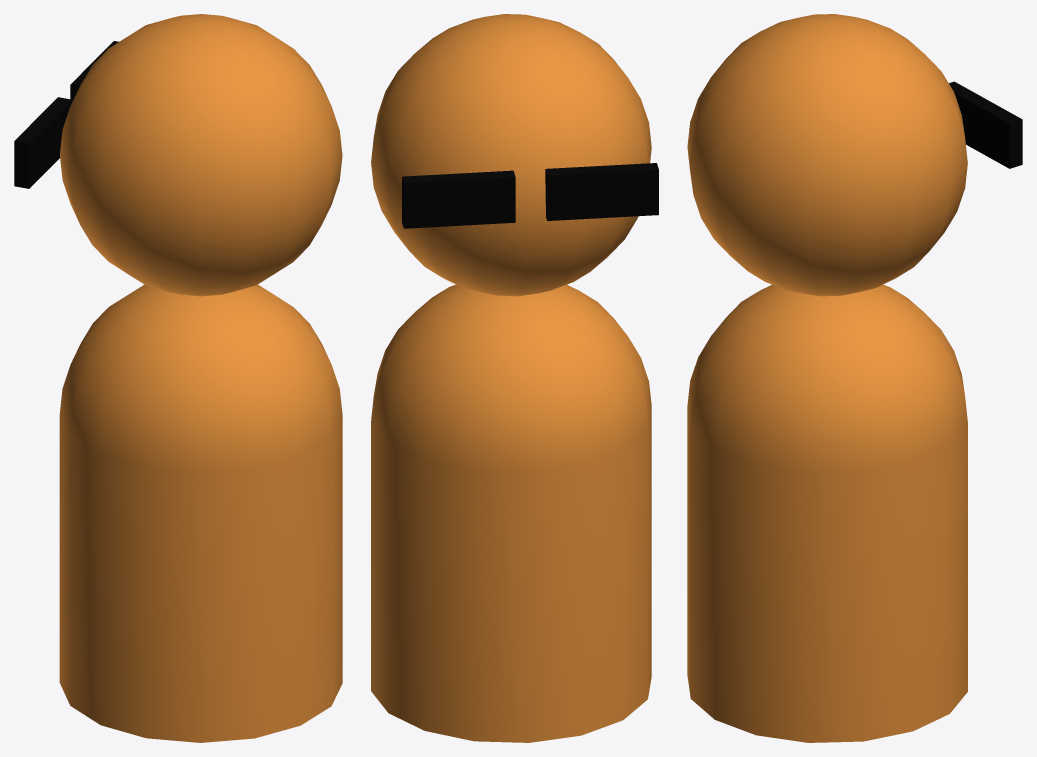
File: orange customer.fbx
3 renders of one model, left to right at view 1: azimuth 30°, elevation 25°; view 2: azimuth 150°, elevation 25°; view 3: azimuth 270°, elevation 25°, orthographic.
Visible parts, largest first — view 1: orange customer, right eyebrow.004; view 2: orange customer, right eyebrow.004; view 3: orange customer, right eyebrow.004.
Part boxes in pixels (bbox=[...]): orange customer: bbox=[59, 14, 342, 742]; right eyebrow.004: bbox=[14, 41, 118, 188]; orange customer: bbox=[371, 14, 651, 742]; right eyebrow.004: bbox=[402, 163, 658, 228]; orange customer: bbox=[687, 14, 967, 742]; right eyebrow.004: bbox=[949, 81, 1022, 168].
Size of the model in its own units: 51.52 by 112 by 51.8.
